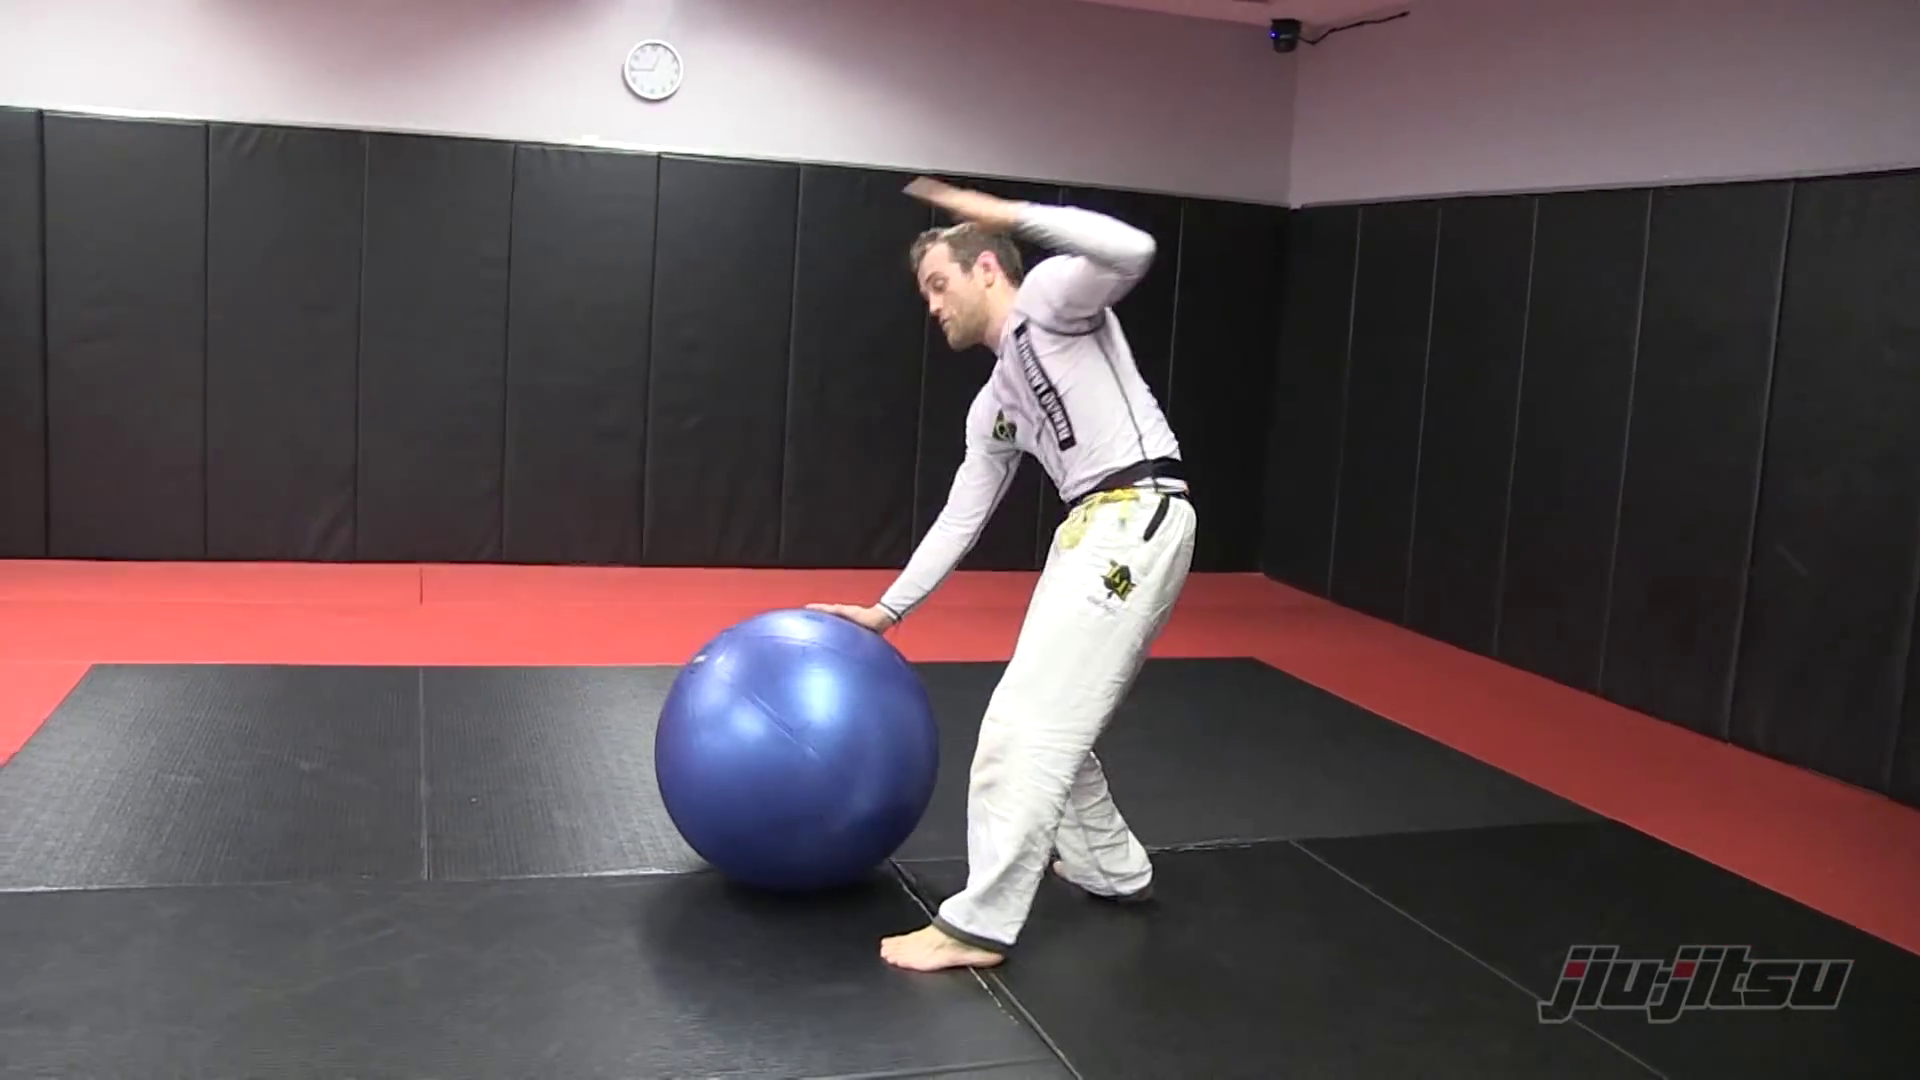yogaball: (649, 597, 957, 914)
